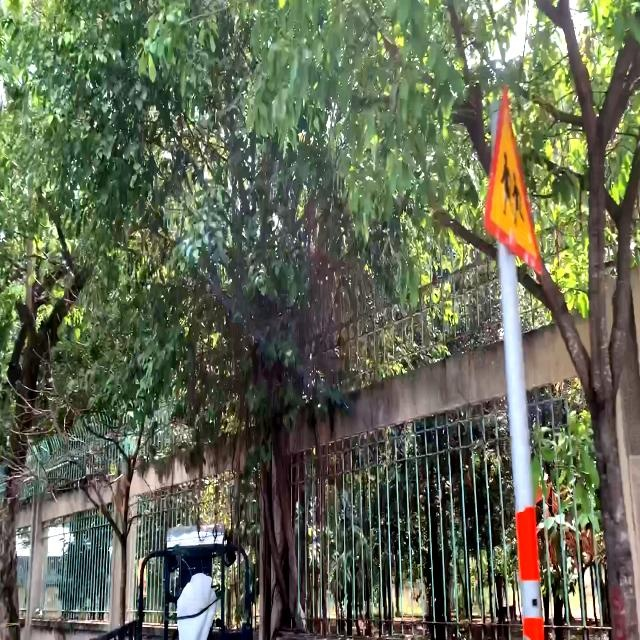bien_nguy_hiem: (482, 74, 544, 289)
